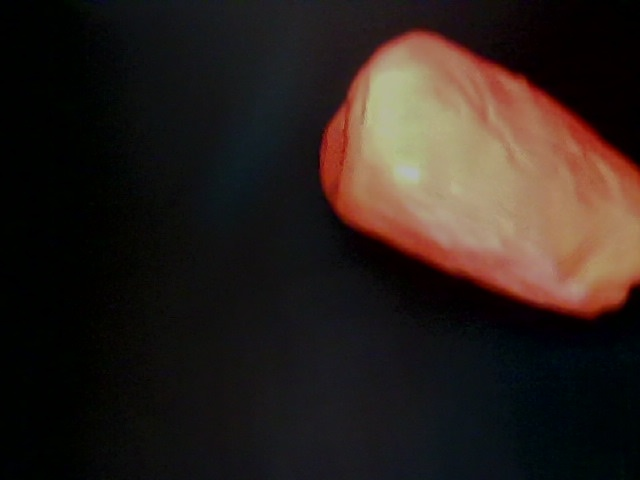YHLJ: (374, 124, 473, 202)
